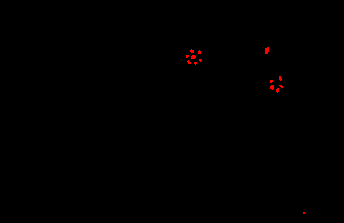Target: (265, 47, 269, 54), (191, 55, 196, 59), (270, 85, 274, 90), (190, 49, 194, 53), (187, 60, 191, 64), (279, 76, 282, 81), (276, 88, 279, 93), (198, 50, 201, 54), (279, 85, 283, 88), (186, 55, 189, 58), (199, 59, 202, 62), (194, 62, 197, 65), (270, 80, 273, 83), (303, 212, 305, 214)
